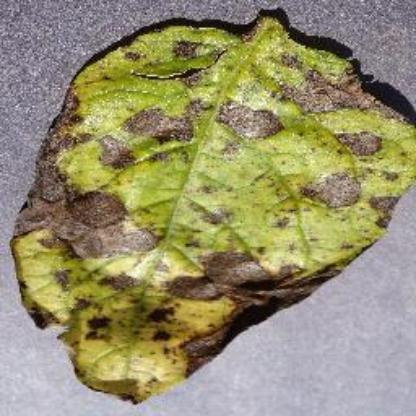Early-Blight: (10, 7, 416, 405)
